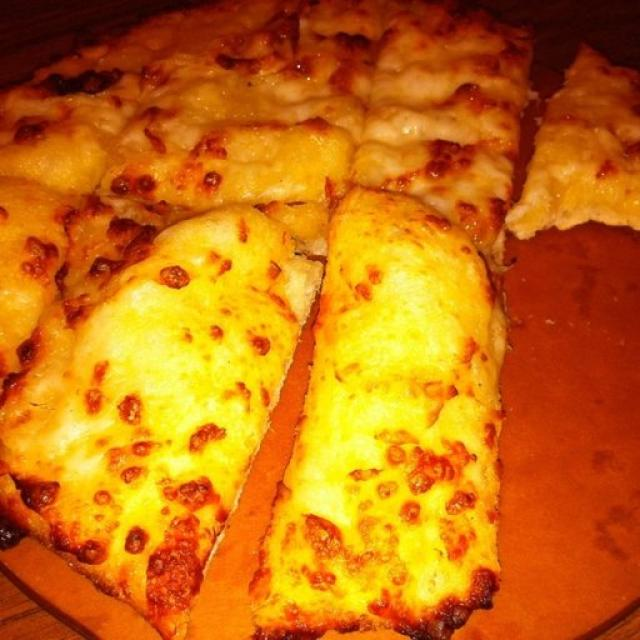Pizza: (0, 0, 640, 640)
